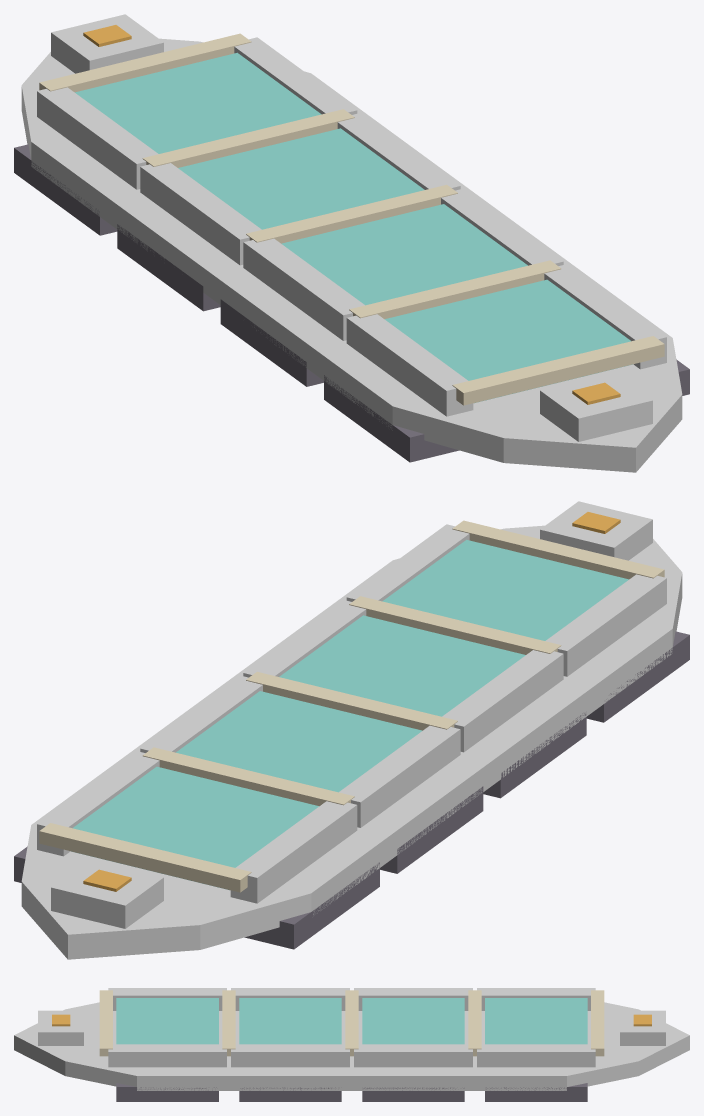
Rendered from space_road_v.glb.
3 views of the same model, one above another, from view 1: azimuth 30°, elevation 25°; view 2: azimuth 150°, elevation 25°; view 3: azimuth 270°, elevation 25° (orthographic). The views are drawn at different scales.
Parts seen in each view (by area): view 1: WoodBody, FixedDetails, BrassTrim; view 2: WoodBody, FixedDetails, BrassTrim; view 3: WoodBody, FixedDetails, BrassTrim.
Part boxes in pixels (left/top/right/bottom): WoodBody: left=21, top=14, right=682, bottom=472; FixedDetails: left=14, top=52, right=689, bottom=462; BrassTrim: left=39, top=25, right=664, bottom=405; WoodBody: left=21, top=501, right=682, bottom=959; FixedDetails: left=14, top=539, right=689, bottom=949; BrassTrim: left=39, top=512, right=664, bottom=892; WoodBody: left=14, top=988, right=689, bottom=1090; FixedDetails: left=116, top=998, right=587, bottom=1101; BrassTrim: left=52, top=990, right=651, bottom=1056.
Bounding box in the file's own units: 0.1879 × 0.045 × 0.66.
